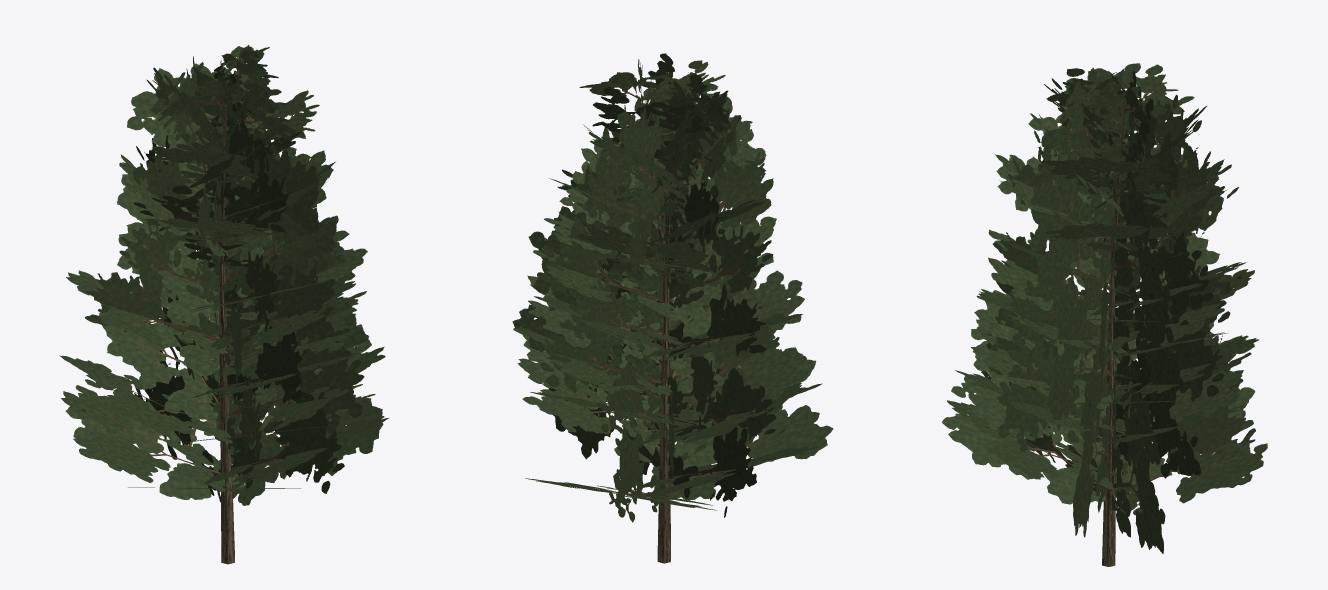
The model's file is tree-03.glb.
3 renders of one model, left to right at view 1: azimuth 30°, elevation 25°; view 2: azimuth 150°, elevation 25°; view 3: azimuth 270°, elevation 25°, orthographic. The views are drawn at different scales.
Visible parts, largest first — view 1: Tilia_europaea_50y_03_LoD2A_summer_obj0_trunk; view 2: Tilia_europaea_50y_03_LoD2A_summer_obj0_trunk; view 3: Tilia_europaea_50y_03_LoD2A_summer_obj0_trunk.
Boxes of the visible parts, x1,y1,x2,y2 form: Tilia_europaea_50y_03_LoD2A_summer_obj0_trunk: [59, 45, 389, 564]; Tilia_europaea_50y_03_LoD2A_summer_obj0_trunk: [512, 53, 833, 563]; Tilia_europaea_50y_03_LoD2A_summer_obj0_trunk: [942, 63, 1267, 566].
Size of the model in its own units: 9.38 by 13.24 by 9.44.
1 material, 1 textured.
